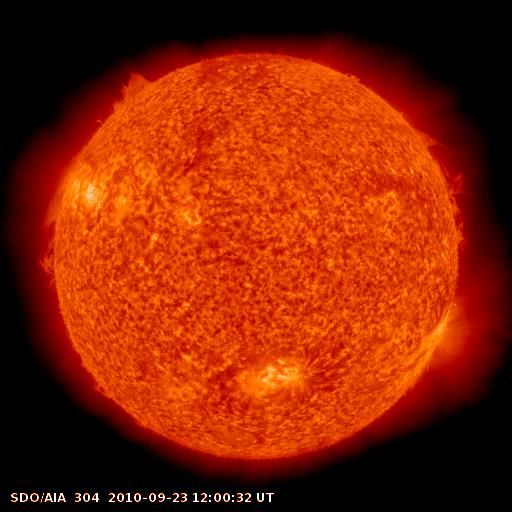prominence: (406, 116, 475, 248), (98, 62, 164, 124), (31, 189, 67, 291), (81, 363, 126, 406)
